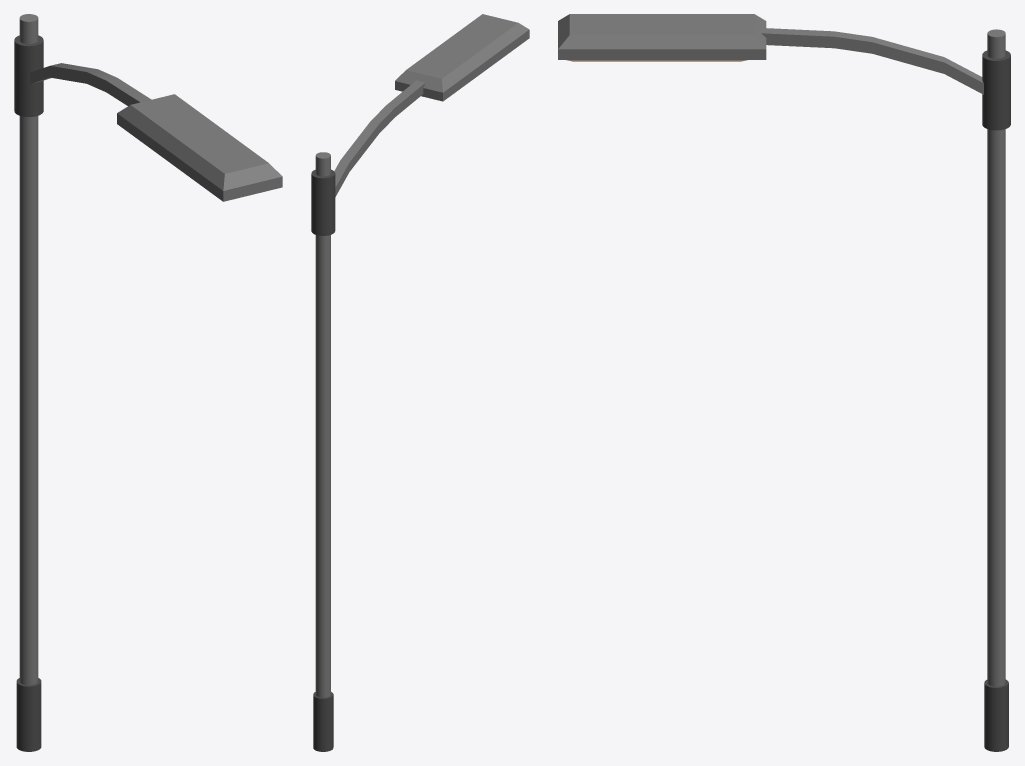
Rendered from Road_StreetLamp_Seperate.fbx.
The picture shows the model from 3 angles, left to right: view 1: azimuth 30°, elevation 25°; view 2: azimuth 150°, elevation 25°; view 3: azimuth 270°, elevation 25°; orthographic projection. The views are drawn at different scales.
Visible parts, largest first — view 1: Streetlight; view 2: Streetlight; view 3: Streetlight.
Part boxes in pixels (box(x1,y1,x2,y2)): Streetlight: box(14, 14, 282, 751); Streetlight: box(311, 14, 529, 751); Streetlight: box(558, 14, 1010, 751).
Bounding box in the file's own units: 32.19 × 383 × 218.
